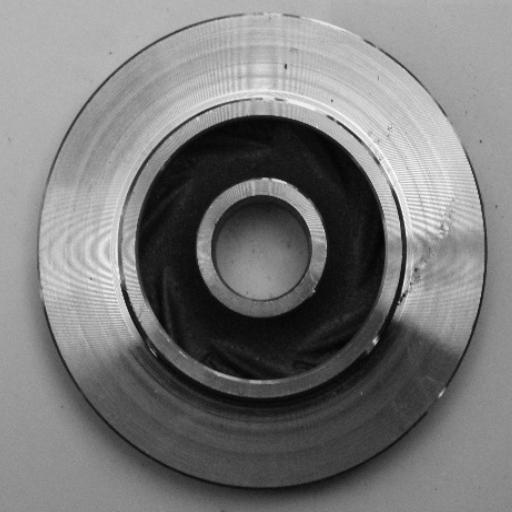crack: (394, 190, 459, 317)
scratch: (239, 86, 336, 122), (348, 323, 397, 377)
unpolished_casting: (34, 9, 491, 494)
